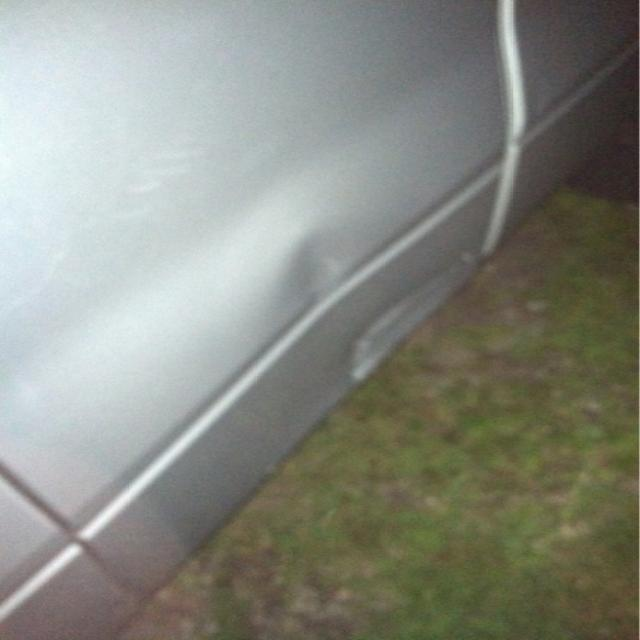dent: (274, 225, 387, 323)
scratch: (352, 247, 479, 385)
